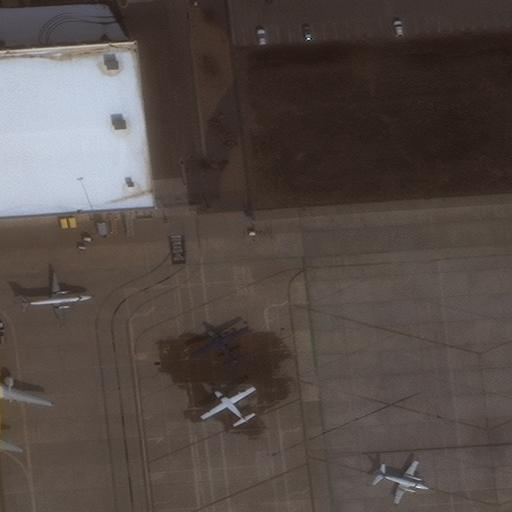Medium Civil Transport: (0, 350, 52, 447), (19, 271, 94, 324), (193, 327, 246, 363), (200, 386, 252, 422)
Small Civil Transport: (375, 462, 429, 504)
